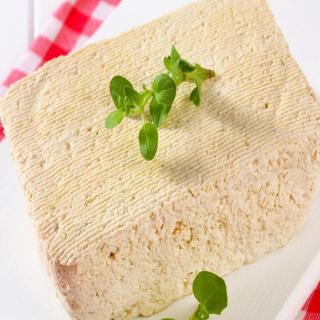Tahu: (1, 1, 312, 319)
